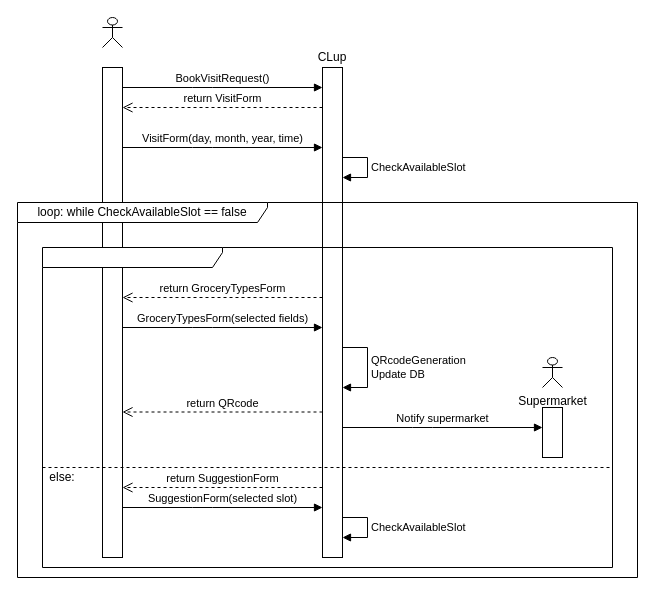
This 655x595 diagram has some shape labels left out. The shapes that lost their labels are listed below. From the top down, each one's box as (x1, y1, x2, y2) in pixels, then its label:
(102, 16, 122, 48): Costumer
(42, 246, 612, 568): CheckAvailableSlots == true
